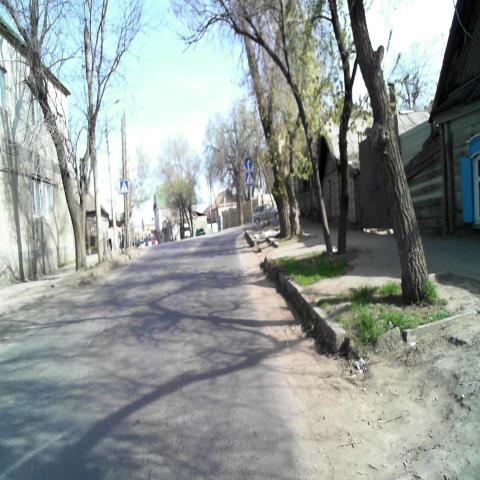4_1_2: (244, 156, 252, 170)
